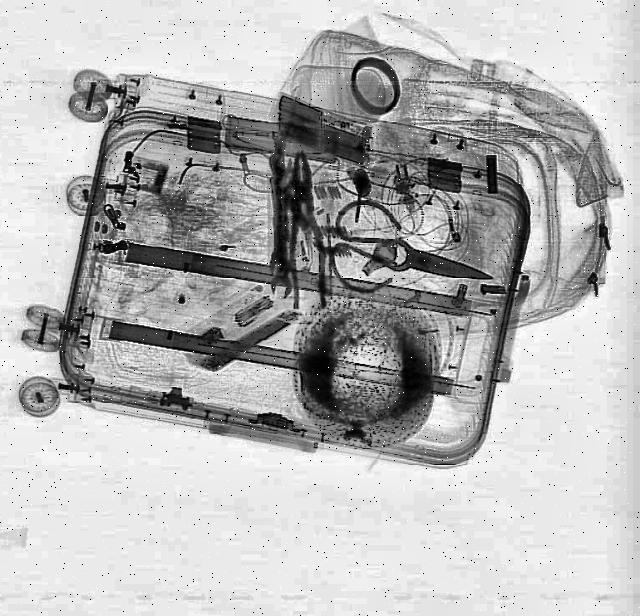Pliers: (283, 150, 329, 308)
Scissors: (322, 193, 508, 317)
Wrench: (270, 156, 294, 298)
